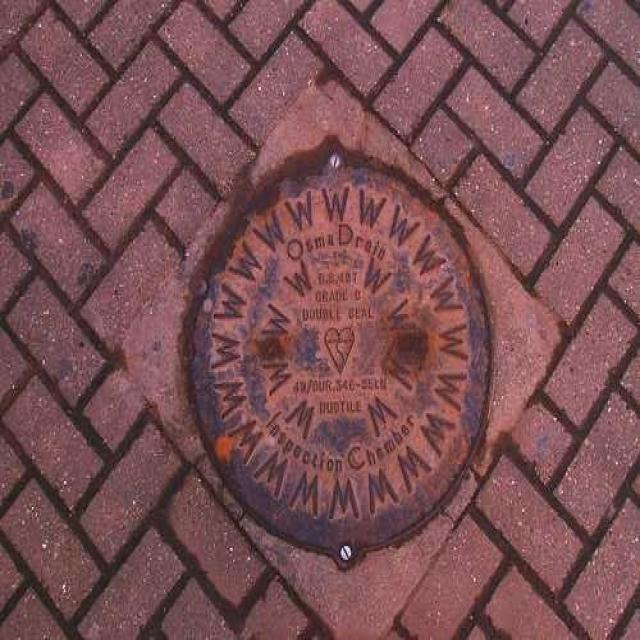manhole: (186, 142, 490, 568)
